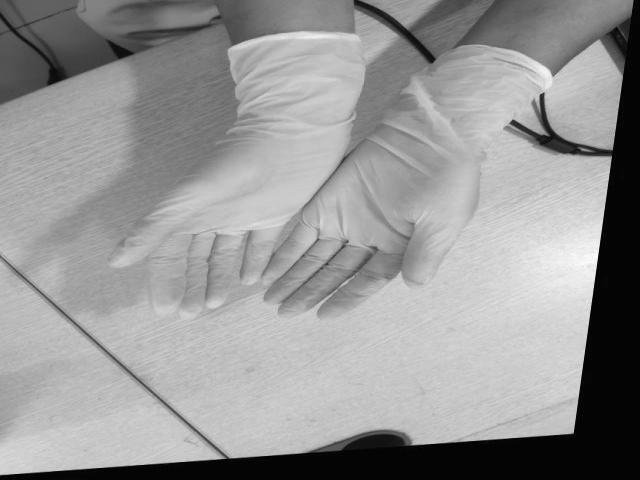gloved: (108, 115, 328, 321), (278, 132, 484, 322)
